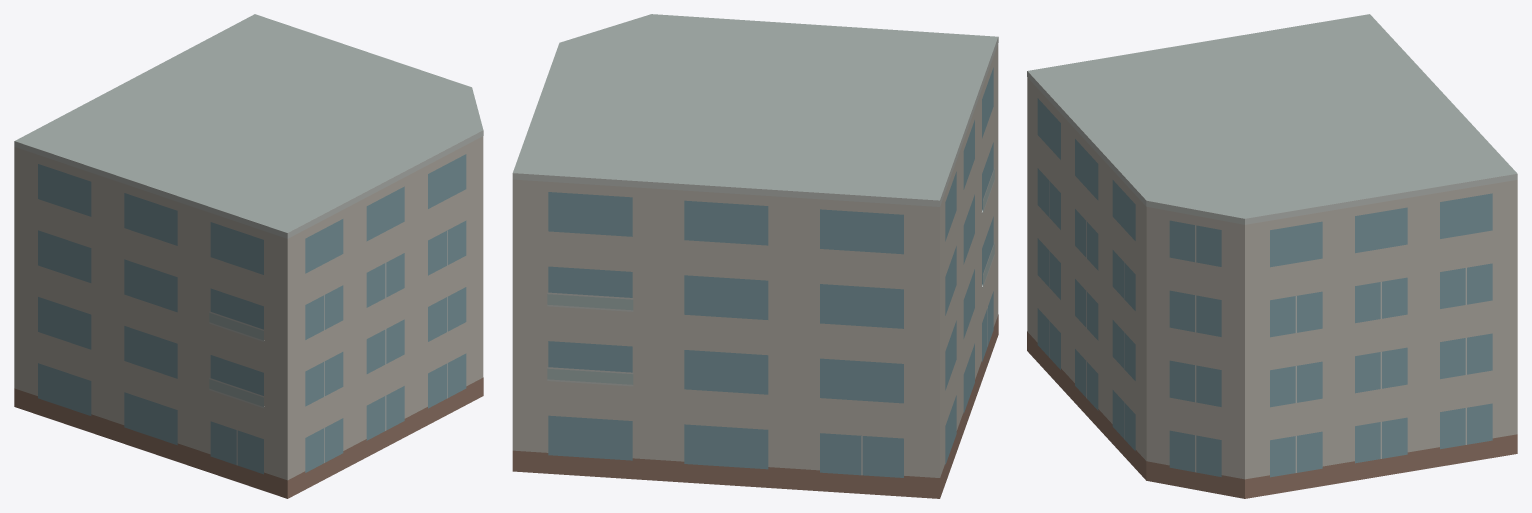
The model's file is survey-upis-32851959.glb.
3 renders of one model, left to right at view 1: azimuth 30°, elevation 25°; view 2: azimuth 150°, elevation 25°; view 3: azimuth 270°, elevation 25°, orthographic. The views are drawn at different scales.
Visible parts, largest first — view 1: survey-upis-32851959.tmp; view 2: survey-upis-32851959.tmp; view 3: survey-upis-32851959.tmp.
Part boxes in pixels (x1=…): survey-upis-32851959.tmp: x1=14, y1=14, x2=483, y2=498; survey-upis-32851959.tmp: x1=512, y1=14, x2=998, y2=498; survey-upis-32851959.tmp: x1=1027, y1=14, x2=1517, y2=498.
Size of the model in its own units: 17.73 by 11.3 by 17.95.
